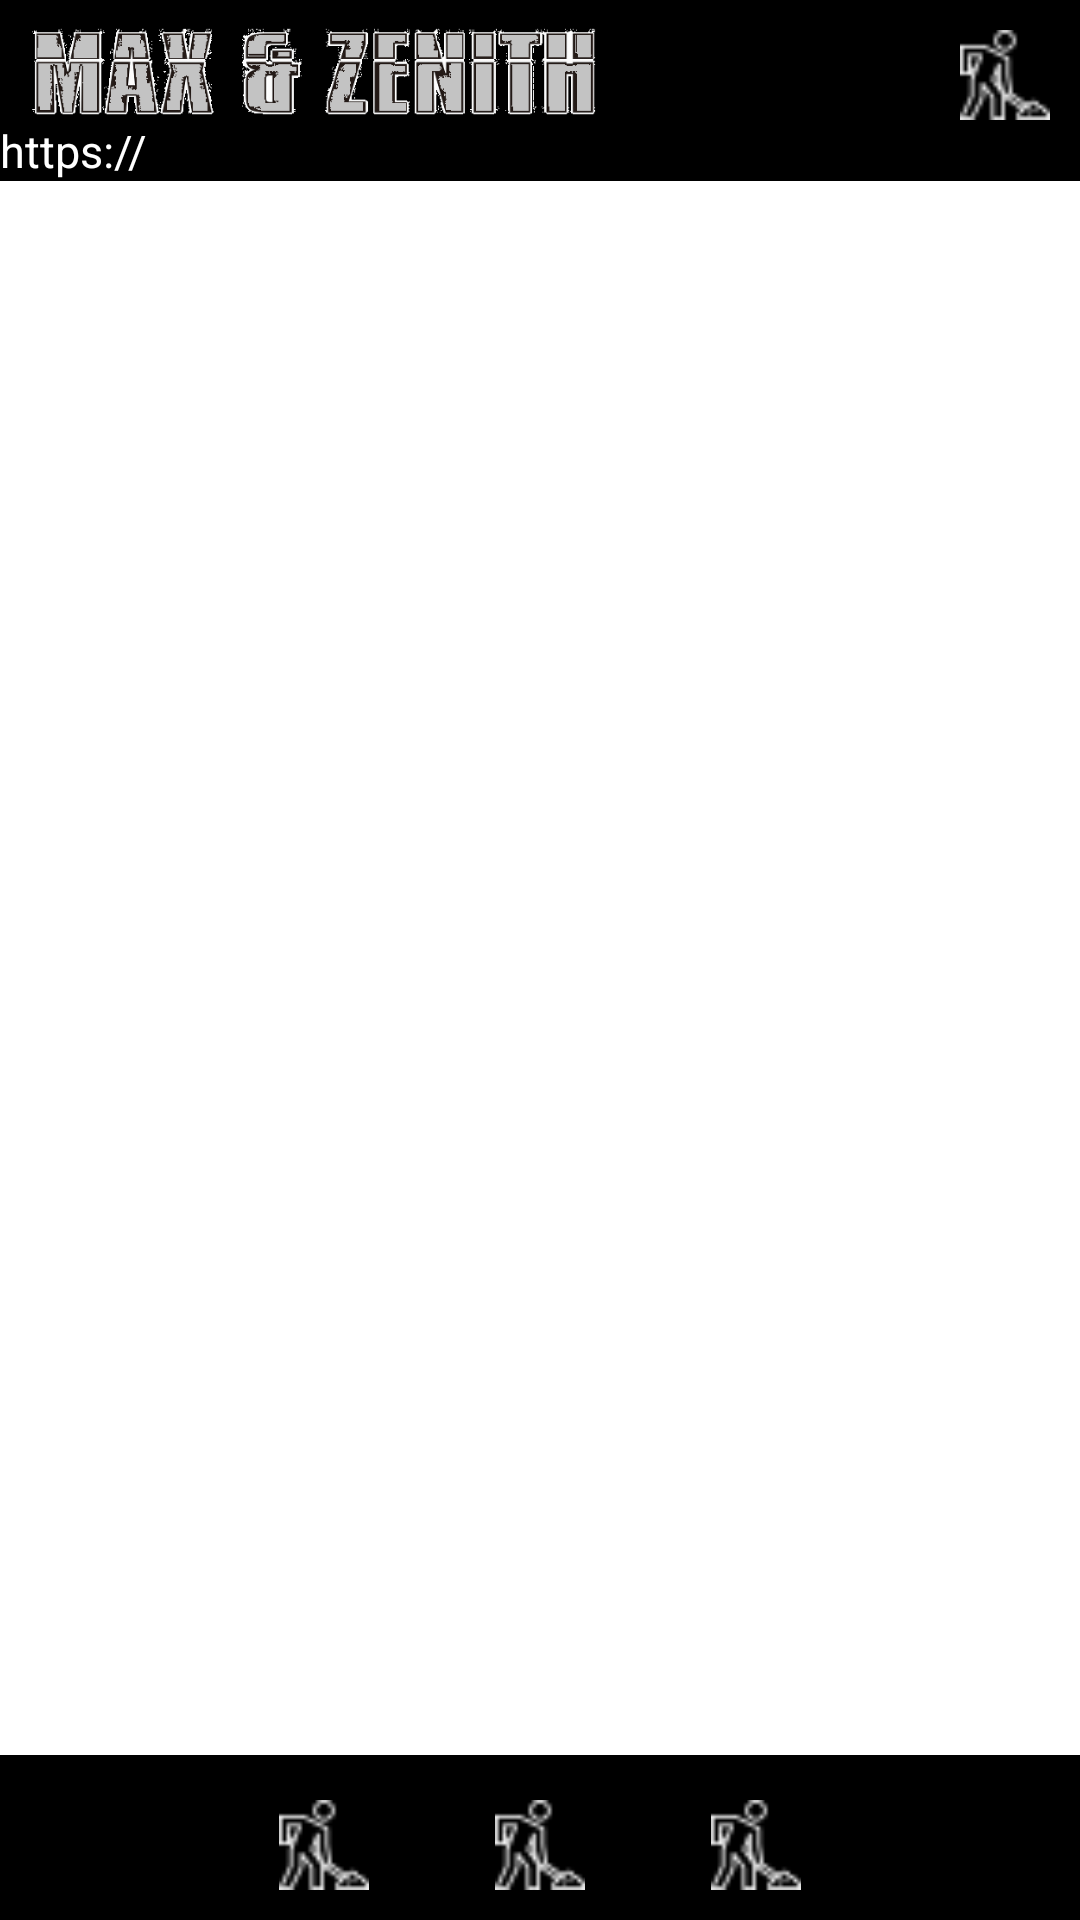

Locate icon controls on the screen. Image size 1080 × 1920, boxes as [x1,y1,x2,y2].
under construction: [960,30,1050,120], [279,1800,369,1890], [495,1800,585,1890], [711,1800,801,1890]
